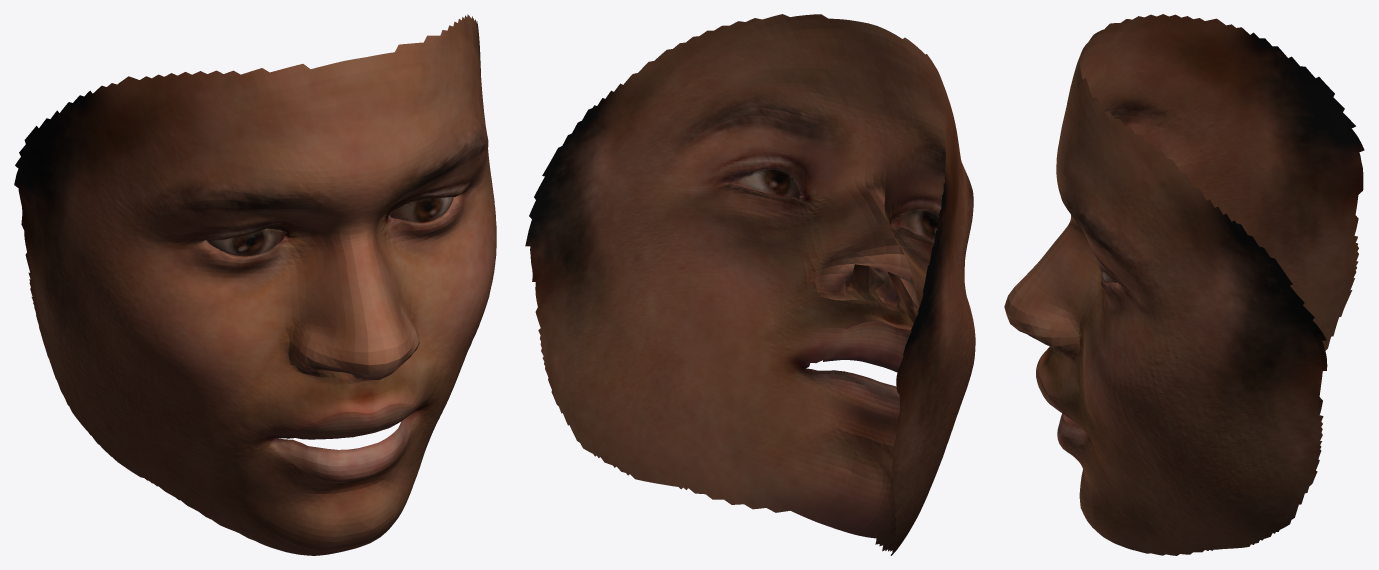
Rendered from generated.photos_v3_0002511_mesh.obj.
3 views of the same model, side by side, from view 1: azimuth 30°, elevation 25°; view 2: azimuth 150°, elevation 25°; view 3: azimuth 270°, elevation 25° (orthographic). The views are drawn at different scales.
Bounding box in the file's own units: 1.47 × 1.7 × 1.16.
